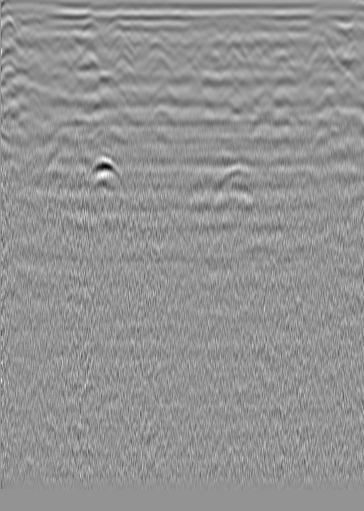가스: (82, 154, 127, 191)
상수: (314, 28, 334, 48)
오수: (2, 13, 22, 33)
우수: (202, 28, 222, 48)
